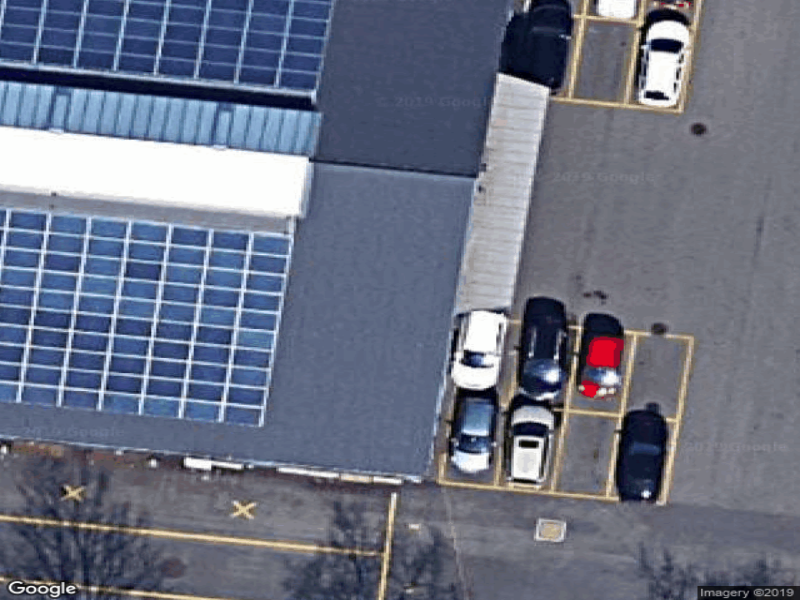pv: (1, 211, 295, 429), (3, 1, 335, 97)
